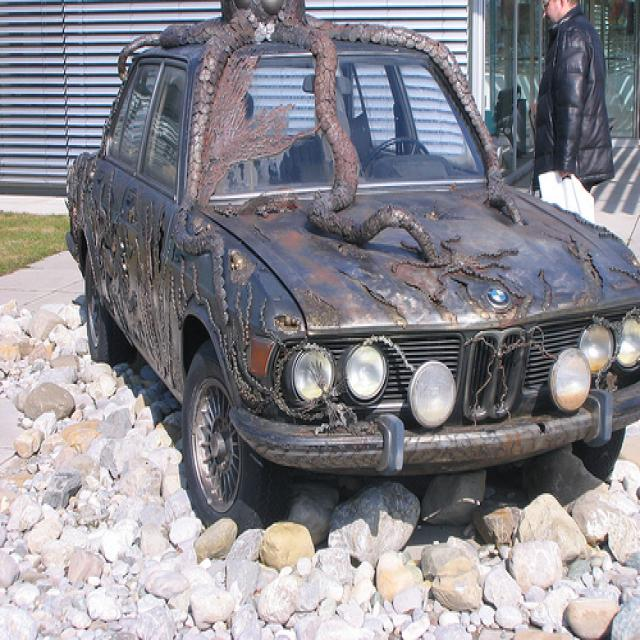Car: (61, 0, 639, 523)
